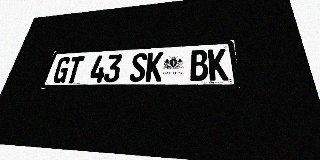3: (103, 54, 123, 82)
4: (88, 55, 108, 83)
B: (190, 49, 208, 81)
G: (51, 57, 72, 83)
K: (208, 48, 229, 81), (145, 52, 163, 82)
S: (129, 53, 148, 82)
T: (64, 56, 85, 83)
